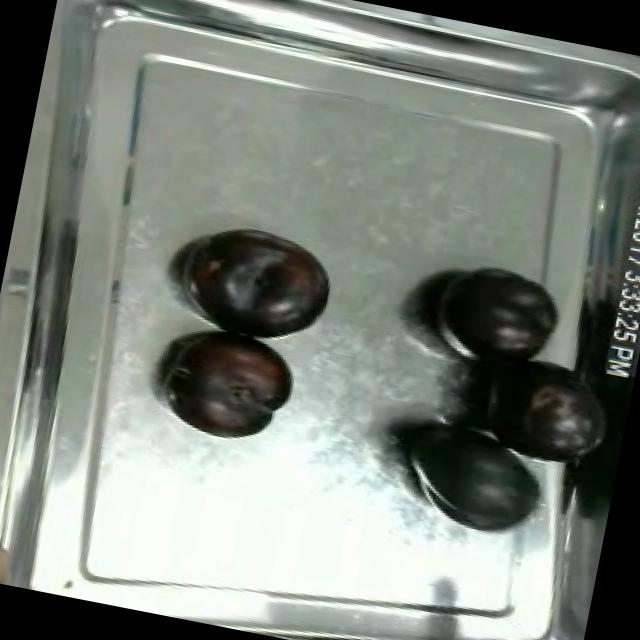Fruit: (380, 399, 568, 555), (176, 213, 348, 356), (155, 316, 306, 452), (416, 247, 572, 376), (0, 524, 32, 588)
